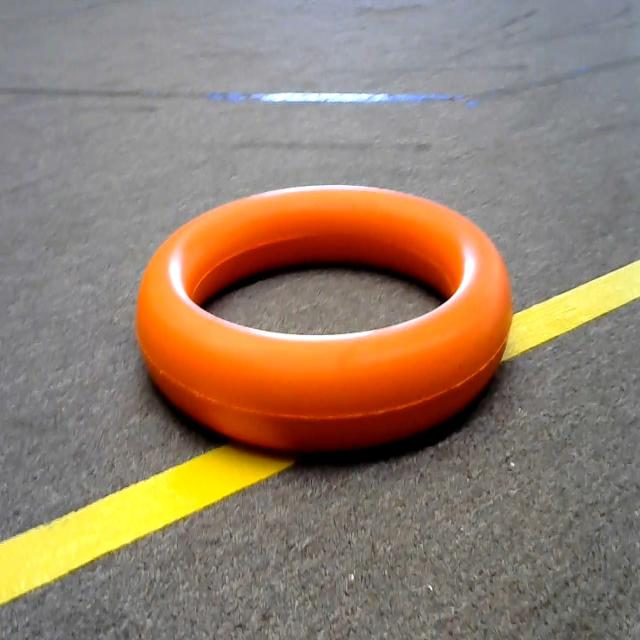note: (120, 188, 537, 464)
